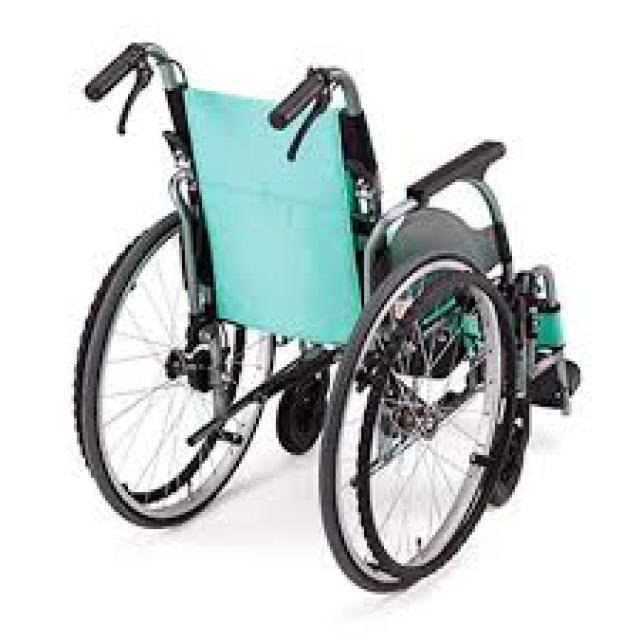wheelchair: (65, 34, 589, 589)
